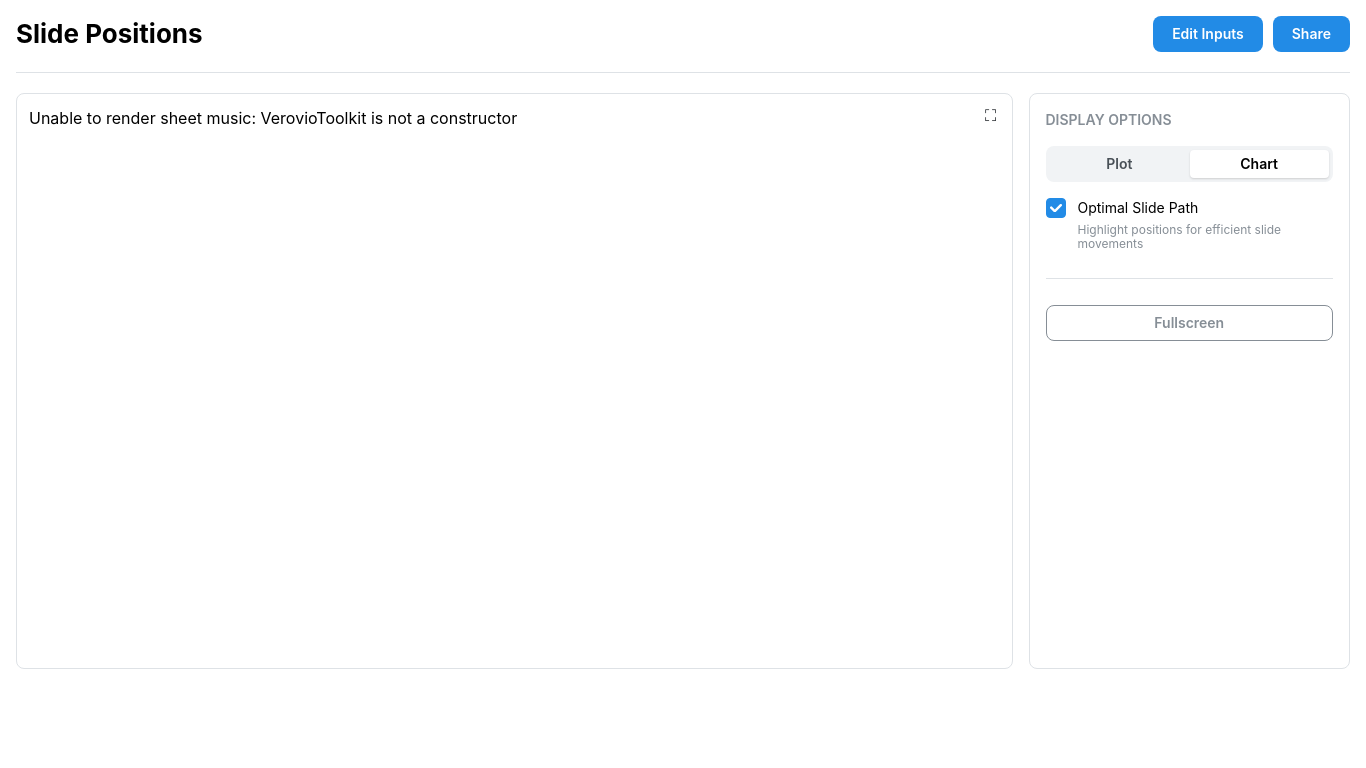
Scenario: plot user flows › switches render modes through the URL and adapts chart controls
Check: the radio button labelled "Chart" is shown, box x1=1240 y1=155 x2=1278 y2=172
Check: the field labelled "Note Names" is not shown
Click the radio button labelled "Plot" at (1119, 164), box x1=1106 y1=155 x2=1132 y2=172
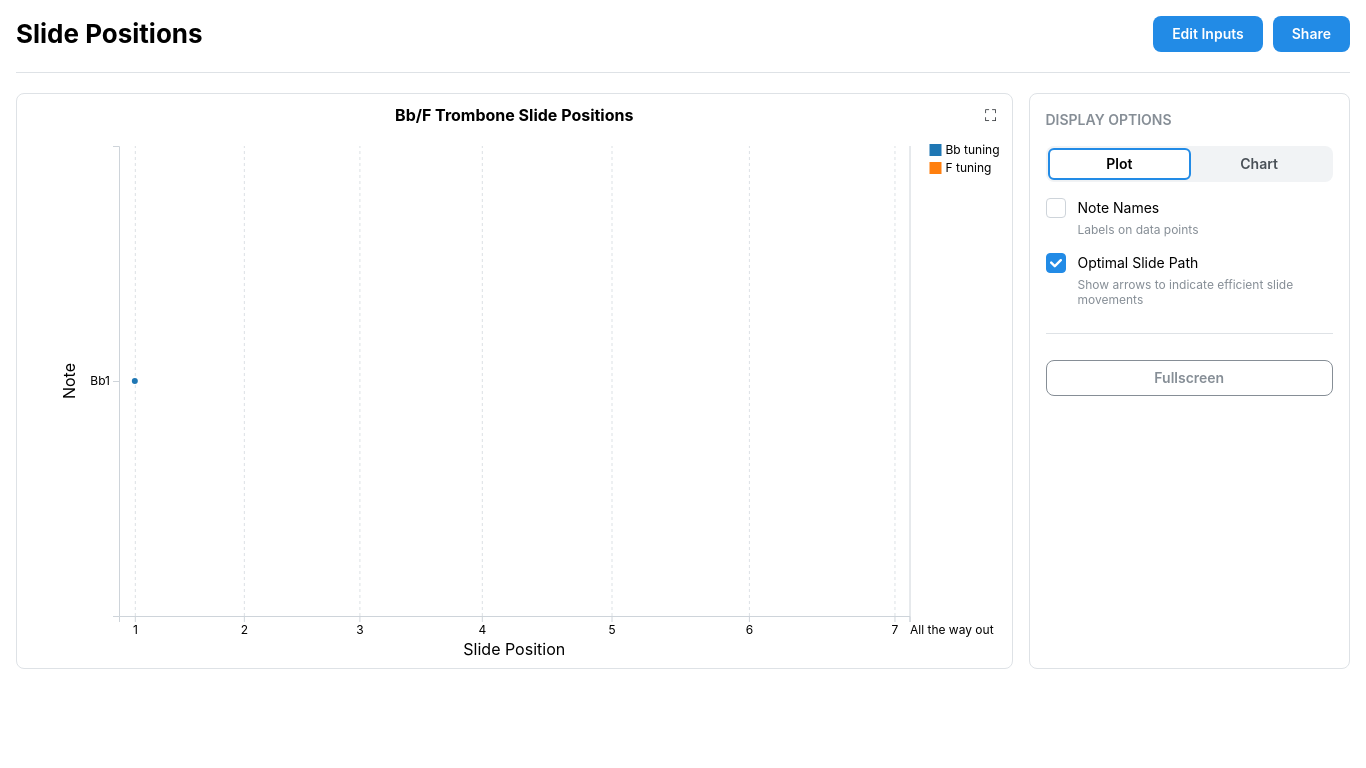
Check: the checkbox labelled "Note Names" is shown, box x1=1046 y1=198 x2=1066 y2=218
